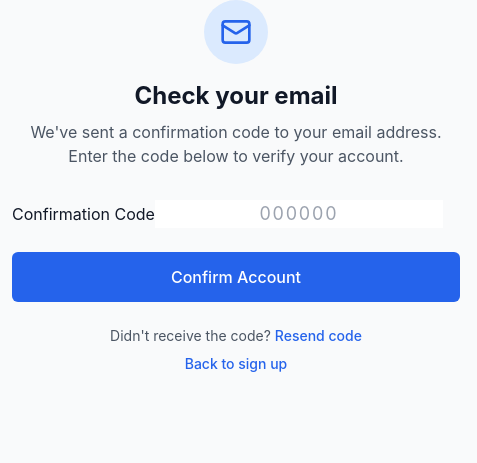
Test case: ConfirmSignUpForm › displays error message on confirmation failure
Type "123456" into the field labelled "Confirmation Code" at (299, 214), box [155,200,443,228]
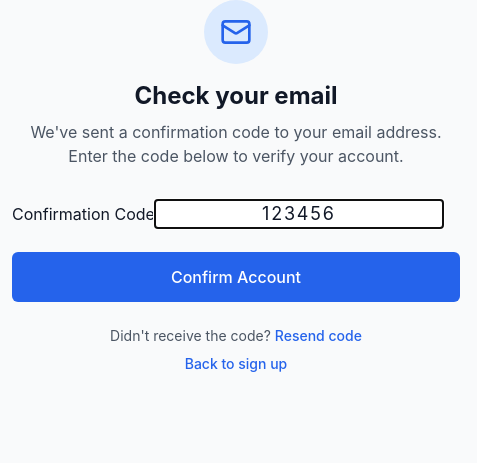
Click the button "Confirm Account" at (236, 277), box [12,252,460,302]
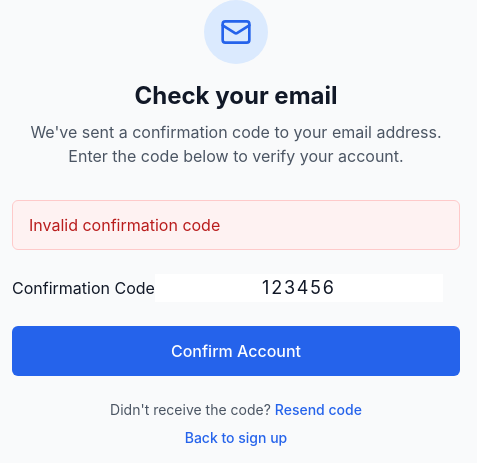
Expected: the text "Invalid confirmation code" is shown, [12,200,460,250]
